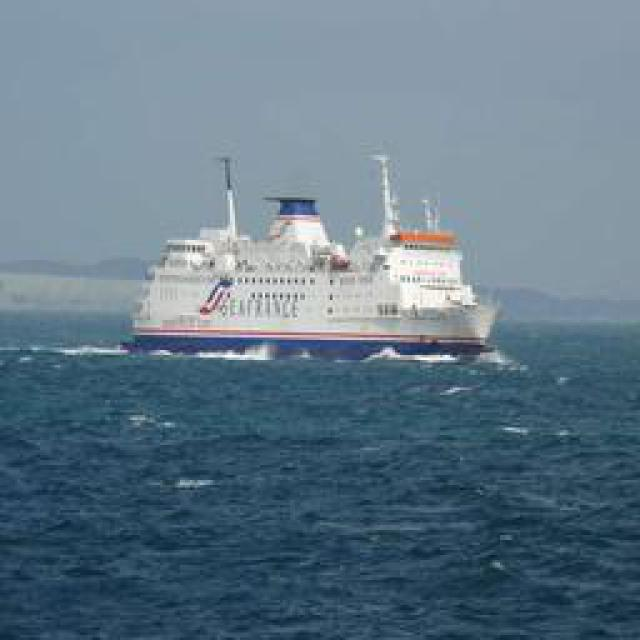Ship: (134, 155, 509, 360)
